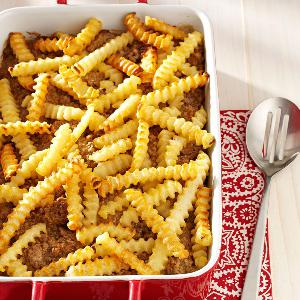fries_350cal: (8, 20, 210, 272)
